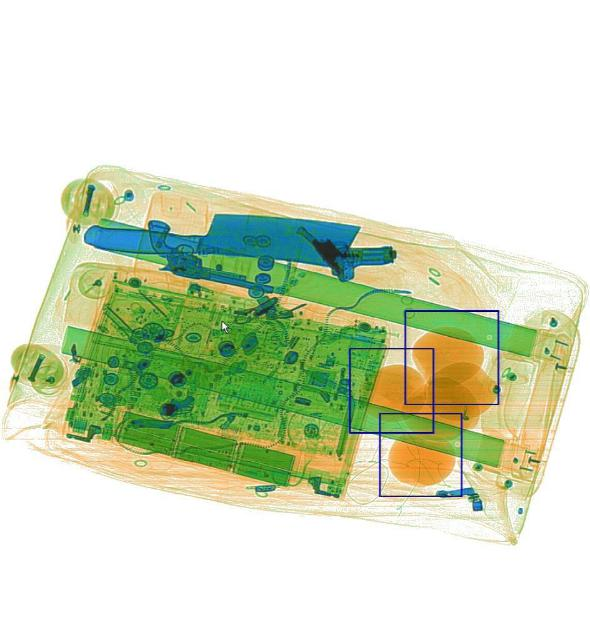Gun: (136, 216, 280, 298), (294, 190, 398, 296)
Knife: (81, 199, 359, 273)
